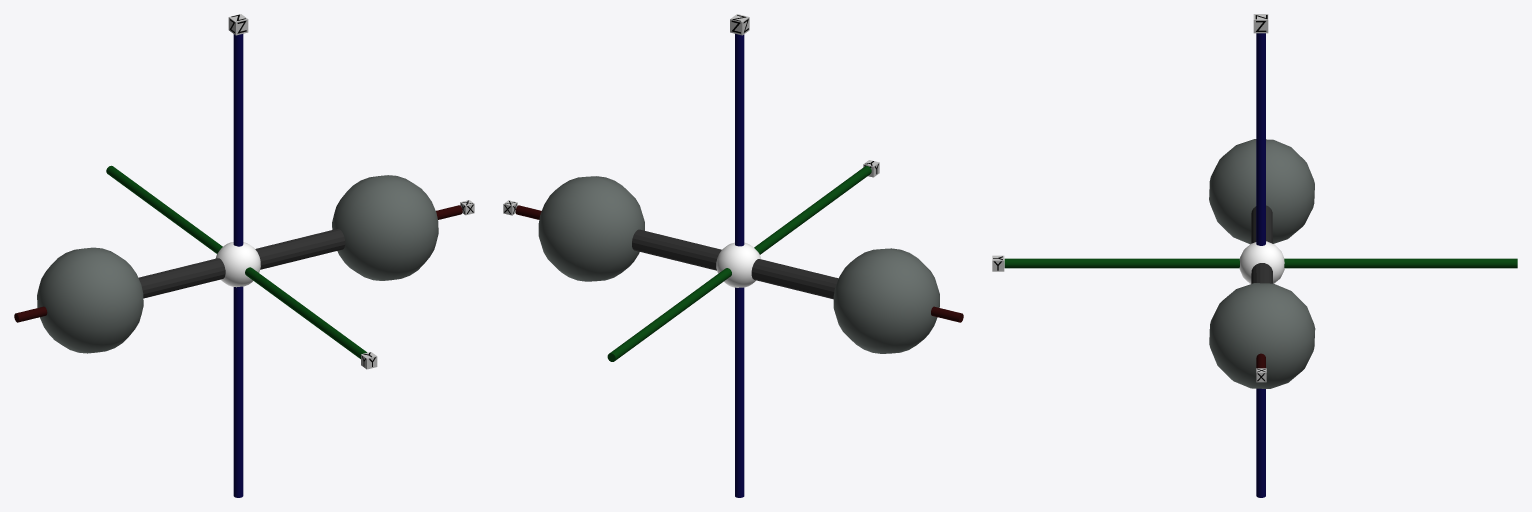
File: trpev_linear.obj
The picture shows the model from 3 angles, left to right: view 1: azimuth 30°, elevation 25°; view 2: azimuth 150°, elevation 25°; view 3: azimuth 270°, elevation 25°; orthographic projection.
Parts seen in each view (by area): view 1: ShapeSphere.002_ShapeSphere.003, ShapeSphere.001_ShapeSphere.002, Cylinder_004_001_Cylinder.013, ShapeCylinder.001, ShapeCylinder.003, ShapeSphere_ShapeSphere.001; view 2: ShapeSphere.002_ShapeSphere.003, ShapeSphere.001_ShapeSphere.002, Cylinder_004_001_Cylinder.013, ShapeCylinder.001, ShapeCylinder.003, ShapeSphere_ShapeSphere.001; view 3: ShapeSphere.001_ShapeSphere.002, Cylinder_004_001_Cylinder.013, ShapeSphere.002_ShapeSphere.003, ShapeSphere_ShapeSphere.001.
Boxes of the visible parts, box(x1,y1,x2,y2) form: ShapeSphere.002_ShapeSphere.003: box(37, 247, 143, 353); ShapeSphere.001_ShapeSphere.002: box(332, 175, 438, 280); Cylinder_004_001_Cylinder.013: box(14, 34, 462, 497); ShapeCylinder.001: box(255, 228, 345, 269); ShapeCylinder.003: box(138, 258, 225, 298); ShapeSphere_ShapeSphere.001: box(215, 242, 260, 287); ShapeSphere.002_ShapeSphere.003: box(833, 248, 939, 353); ShapeSphere.001_ShapeSphere.002: box(538, 176, 644, 281); Cylinder_004_001_Cylinder.013: box(515, 34, 963, 497); ShapeCylinder.001: box(632, 229, 721, 270); ShapeCylinder.003: box(751, 259, 838, 299); ShapeSphere_ShapeSphere.001: box(716, 242, 760, 287); ShapeSphere.001_ShapeSphere.002: box(1209, 283, 1315, 388); Cylinder_004_001_Cylinder.013: box(1004, 33, 1517, 497); ShapeSphere.002_ShapeSphere.003: box(1209, 139, 1314, 244); ShapeSphere_ShapeSphere.001: box(1239, 241, 1284, 283).
Bounding box in the file's own units: 12.88 × 12.91 × 12.84.
